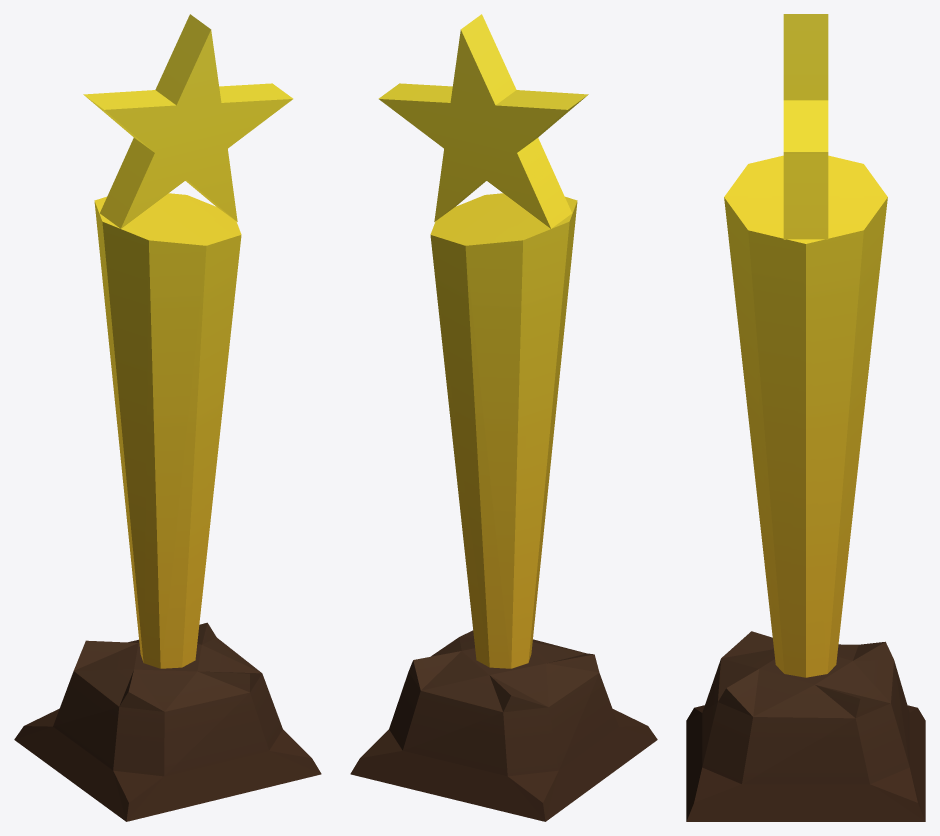
The model's file is Throphy2.fbx.
The picture shows the model from 3 angles, left to right: view 1: azimuth 30°, elevation 25°; view 2: azimuth 150°, elevation 25°; view 3: azimuth 270°, elevation 25°; orthographic projection. The views are drawn at different scales.
Visible parts, largest first — view 1: Trophy.002; view 2: Trophy.002; view 3: Trophy.002.
Boxes of the visible parts, x1=… form: Trophy.002: x1=14, y1=14, x2=321, y2=821; Trophy.002: x1=350, y1=14, x2=657, y2=821; Trophy.002: x1=686, y1=14, x2=925, y2=821.
Bounding box in the file's own units: 0.5477 × 1.79 × 0.5007.
